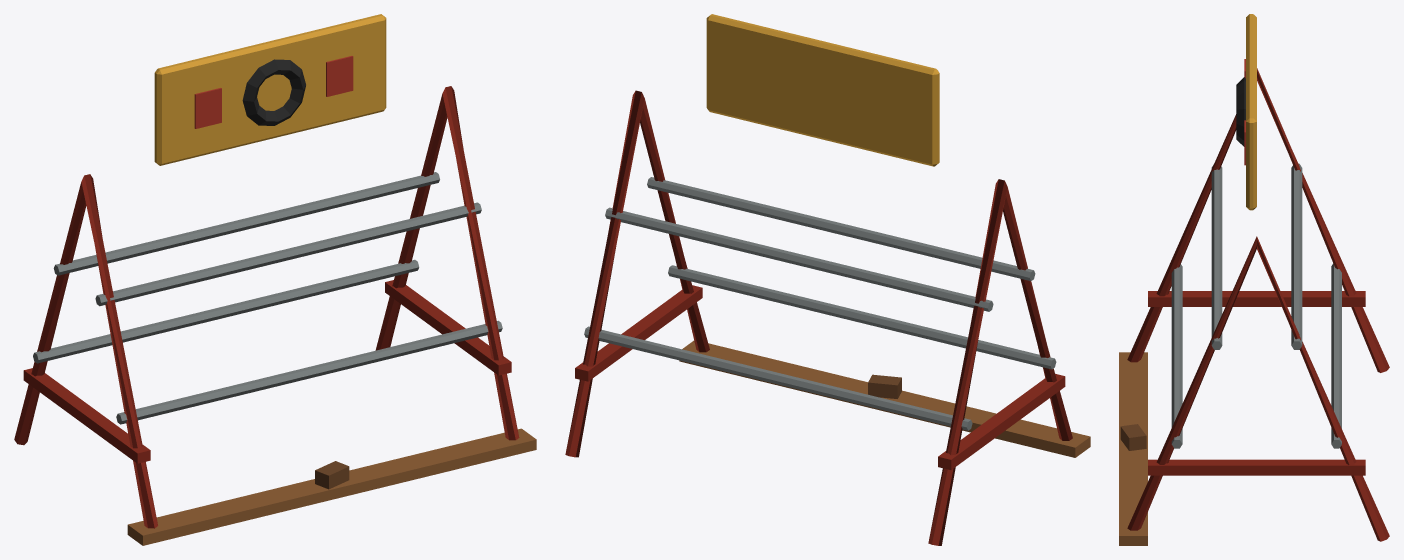
Rendered from gia_lop.glb.
3 renders of one model, left to right at view 1: azimuth 30°, elevation 25°; view 2: azimuth 150°, elevation 25°; view 3: azimuth 270°, elevation 25°, orthographic. The views are drawn at different scales.
Parts seen in each view (by area): view 1: khung, bien, chan_chan; view 2: khung, bien, chan_chan; view 3: khung, chan_chan, bien.
Boxes of the visible parts, x1,y1,x2,y2 form: khung: [14, 86, 519, 528]; bien: [154, 14, 386, 165]; chan_chan: [127, 428, 536, 545]; khung: [565, 90, 1072, 545]; bien: [706, 14, 939, 166]; chan_chan: [679, 340, 1090, 457]; khung: [1127, 68, 1389, 541]; chan_chan: [1119, 352, 1147, 545]; bien: [1236, 14, 1256, 210].
Size of the model in its own units: 1.2 by 1.19 by 0.7468.
